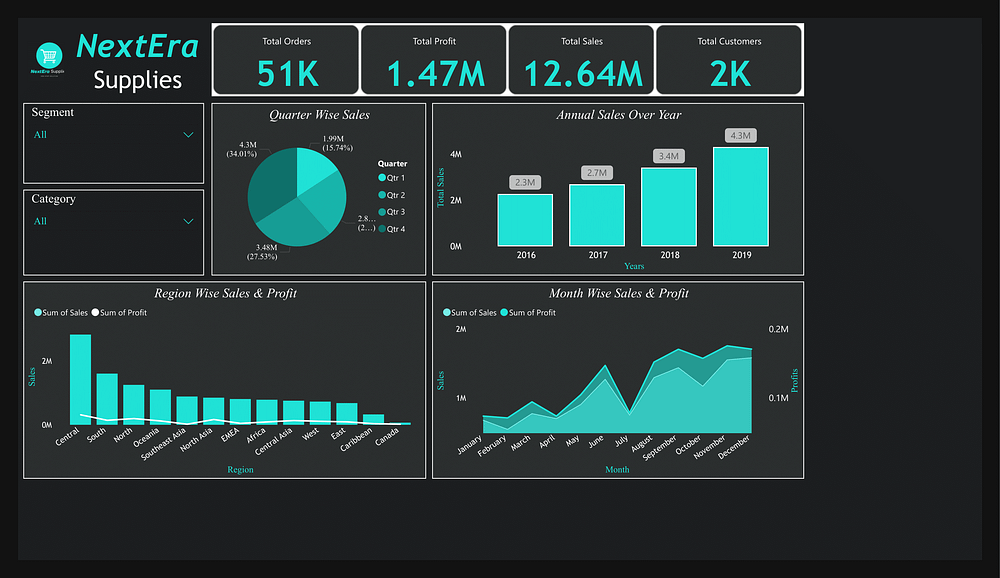

The dashboard page shown, as its layout file describes it:
{"tool":"powerbi","page":{"name":"Page 2","canvas":[1280,720],"ordinal":1},"visuals":[{"type":"cardVisual","fields":{"Data":["Measure Table.Total Orders","Measure Table.Total Profit","Measure Table.Total Sales","Measure Table.Total Customers"]},"box":[257,7,1015.1,96.5],"z":0},{"type":"lineStackedColumnComboChart","title":"Annual Sales Over Year","fields":{"Category":["Orders.Order Date.Variation.Date Hierarchy.Year"],"Y":["Sum(Orders.Sales)"]},"box":[650,112.8,622.1,289.5],"z":1000},{"type":"image","box":[7,22,68,67],"z":2000},{"type":"textbox","box":[61,7,196,97],"z":3000},{"type":"areaChart","title":"Month Wise Sales & Profit","fields":{"Category":["Orders.Order Date.Variation.Date Hierarchy.Month"],"Y":["Sum(Orders.Sales)"],"Y2":["Sum(Orders.Profit)"]},"box":[7,411.6,632.6,298.8],"z":4000},{"type":"lineStackedColumnComboChart","title":"Region Wise Sales & Profit","fields":{"Category":["Orders.Region"],"Y2":["Sum(Orders.Profit)"],"Y":["Sum(Orders.Sales)"]},"box":[650,411.6,622.1,298.8],"z":5000},{"type":"pieChart","title":"Quarter Wise Sales","fields":{"Category":["Orders.Order Date.Variation.Date Hierarchy.Quarter"],"Y":["Sum(Orders.Sales)"]},"box":[257,112.8,382.6,289.5],"z":6000},{"type":"slicer","fields":{"Values":["Orders.Segment"]},"box":[7.2,235.2,239.5,76.5],"z":7000},{"type":"slicer","fields":{"Values":["Orders.Category"]},"box":[8.7,324.6,239.5,77.9],"z":8000},{"type":"actionButton","box":[8.7,131.3,240.9,40.4],"z":9000},{"type":"actionButton","box":[138.5,181.8,108.2,40.4],"z":10000},{"type":"actionButton","box":[8.7,181.8,118.3,40.4],"z":11000}]}

Visuals, with their boxes in screenshot pixels (x1, y1, x2, y2), scaled from the page's 1280x720 canvas onto the 1000x578 screenshot:
cardVisual - Measure Table.Total Orders x Measure Table.Total Profit: 201,6,994,83
"Annual Sales Over Year" lineStackedColumnComboChart: 508,91,994,323
image: 5,18,59,71
textbox: 48,6,201,83
"Month Wise Sales & Profit" areaChart: 5,330,500,570
"Region Wise Sales & Profit" lineStackedColumnComboChart: 508,330,994,570
"Quarter Wise Sales" pieChart: 201,91,500,323
slicer - Orders.Segment: 6,189,193,250
slicer - Orders.Category: 7,261,194,323
actionButton: 7,105,195,138
actionButton: 108,146,193,178
actionButton: 7,146,99,178
